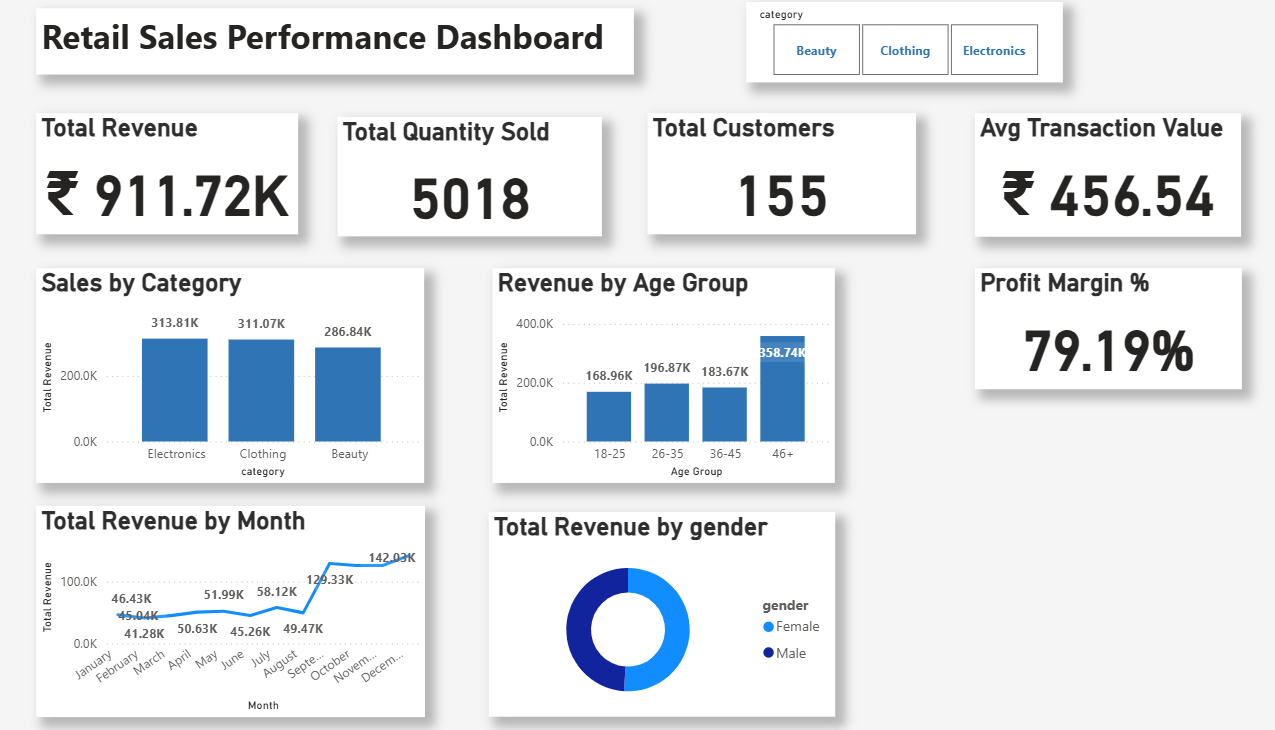

What the dashboard file says about the page in this screenshot:
{"tool":"powerbi","page":{"name":"Page 1","canvas":[1280,720],"ordinal":0},"visuals":[{"type":"card","title":"Total Revenue","fields":{"Values":["Sum(public retail_sales.total_sale)"]},"box":[49.4,122.1,252.5,116.6],"z":0},{"type":"card","title":"Total Quantity Sold","fields":{"Values":["Sum(public retail_sales.quantity)"]},"box":[340.3,124.9,255.2,115.3],"z":1000},{"type":"card","title":"Total Customers","fields":{"Values":["Count(public retail_sales.customer_id)"]},"box":[639.5,122.1,259.3,116.6],"z":2000},{"type":"card","title":"Avg Transaction Value","fields":{"Values":["Avg(public retail_sales.total_sale)"]},"box":[955.1,122.1,258,116.6],"z":3000},{"type":"clusteredColumnChart","title":"Sales by Category","fields":{"Category":["public retail_sales.category"],"Y":["SQL - Retail Sales Analysis_utf.Total Revenue"]},"box":[49.4,271.7,374.6,207.2],"z":4000},{"type":"lineChart","fields":{"Category":["public retail_sales.sale_date.Variation.Date Hierarchy.Month"],"Y":["SQL - Retail Sales Analysis_utf.Total Revenue"]},"box":[49.5,500.7,375.2,203.9],"z":5000},{"type":"clusteredColumnChart","title":"Revenue by Age Group","fields":{"Y":["SQL - Retail Sales Analysis_utf.Total Revenue"],"Category":["public retail_sales.Age Group"]},"box":[489.9,271.7,330.7,207.2],"z":6000},{"type":"donutChart","fields":{"Category":["public retail_sales.gender"],"Y":["SQL - Retail Sales Analysis_utf.Total Revenue"]},"box":[486.2,506.7,334.2,197.9],"z":7000},{"type":"card","title":"Profit Margin %","fields":{"Values":["public retail_sales.Profit Margin %"]},"box":[955.1,271.7,258,116.6],"z":8000},{"type":"textbox","box":[49.5,20.5,576.7,63.9],"z":9000},{"type":"slicer","fields":{"Values":["public retail_sales.category"]},"box":[734.7,14.5,305.2,77.2],"z":9001}]}

Visuals, with their boxes in screenshot pixels (x1, y1, x2, y2), scaled from the page's 1280x720 canvas onto the 1275x730 screenshot:
"Total Revenue" card: <region>49, 124, 301, 242</region>
"Total Quantity Sold" card: <region>339, 127, 593, 244</region>
"Total Customers" card: <region>637, 124, 895, 242</region>
"Avg Transaction Value" card: <region>951, 124, 1208, 242</region>
"Sales by Category" clusteredColumnChart: <region>49, 275, 422, 486</region>
lineChart - public retail_sales.sale_date.Variation.Date Hierarchy.Month x SQL - Retail Sales Analysis_utf.Total Revenue: <region>49, 508, 423, 714</region>
"Revenue by Age Group" clusteredColumnChart: <region>488, 275, 817, 486</region>
donutChart - public retail_sales.gender x SQL - Retail Sales Analysis_utf.Total Revenue: <region>484, 514, 817, 714</region>
"Profit Margin %" card: <region>951, 275, 1208, 394</region>
textbox: <region>49, 21, 624, 86</region>
slicer - public retail_sales.category: <region>732, 15, 1036, 93</region>
